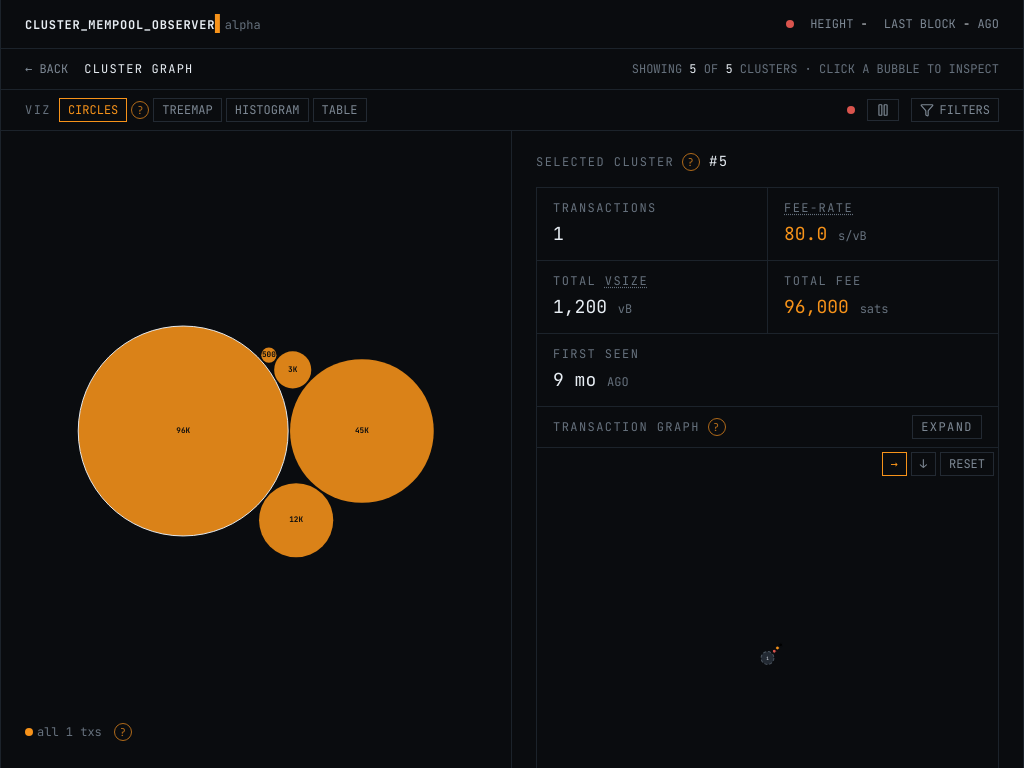
Test: Clusters page: the URL restores the viz config › reads a split size/colour pair back as unlinked
The image size is (1024, 768).
Expected: the text "CLUSTER GRAPH" is shown, [84,61,193,77]
Click the button named "Toggle filters". click: (955, 110)
box: [911,98,999,122]
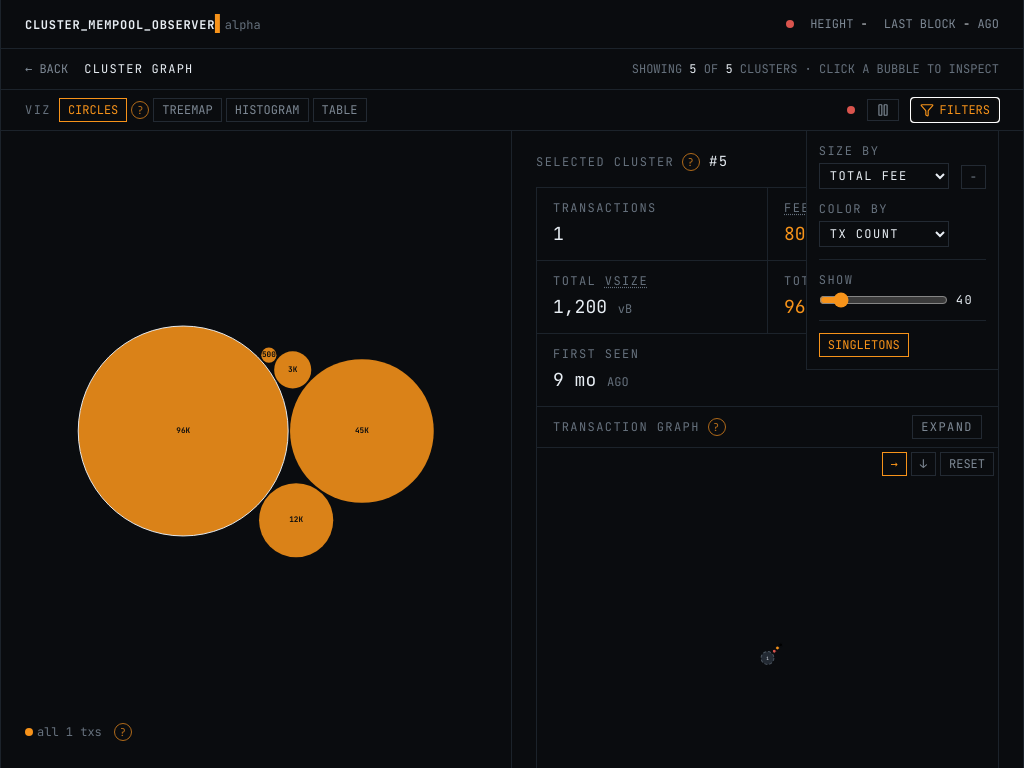
Expected: the field labelled "SIZE/COLOR BY" is not shown
Expected: the dropdown labelled "SIZE BY" shows "TOTAL FEE", [819,163,949,189]
Expected: the dropdown labelled "COLOR BY" shows "TX COUNT", [819,221,949,247]
